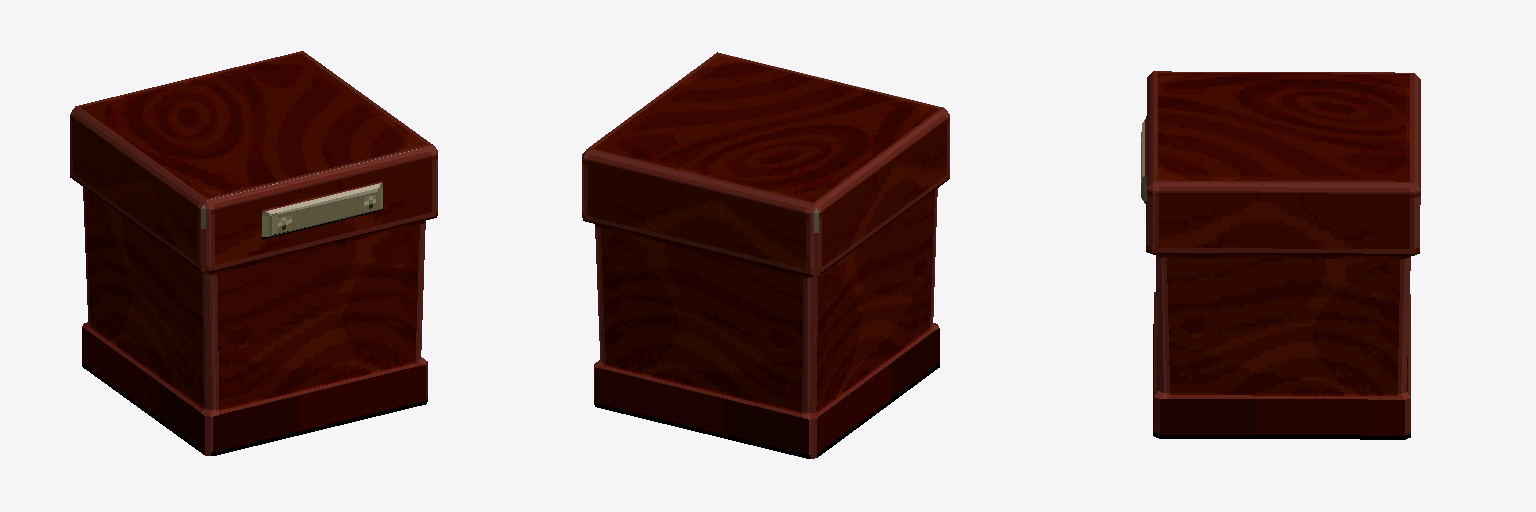
3 views of the same model, side by side, from view 1: azimuth 30°, elevation 25°; view 2: azimuth 150°, elevation 25°; view 3: azimuth 270°, elevation 25° (orthographic).
Visible parts, largest first — view 1: polygon2.001_polygon2.001_Material.014_polygon2.001_polygon2.00; view 2: polygon2.001_polygon2.001_Material.014_polygon2.001_polygon2.00; view 3: polygon2.001_polygon2.001_Material.014_polygon2.001_polygon2.00.
Boxes of the visible parts, x1=… form: polygon2.001_polygon2.001_Material.014_polygon2.001_polygon2.00: x1=70, y1=51, x2=437, y2=455; polygon2.001_polygon2.001_Material.014_polygon2.001_polygon2.00: x1=582, y1=52, x2=949, y2=458; polygon2.001_polygon2.001_Material.014_polygon2.001_polygon2.00: x1=1141, y1=71, x2=1420, y2=439.
Bounding box in the file's own units: 0.8258 × 0.8602 × 0.8478.
1 materials, 1 textured.